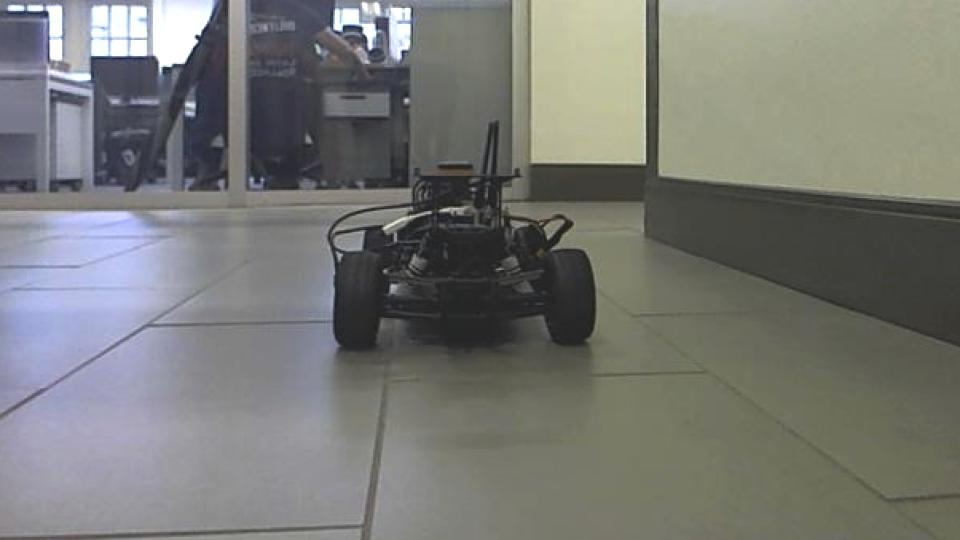car: (322, 114, 606, 356)
